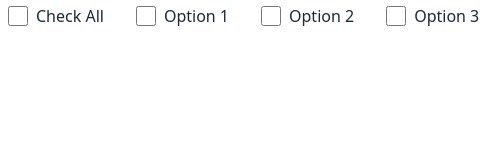
CheckboxGroup Component › Check All functionality works correctly
expect the checkbox labelled "Option 1" is not checked: met, box [136,6,156,26]
# Click Check All
Click the checkbox labelled "Check All".
click(18, 16)  # box [8,6,28,26]
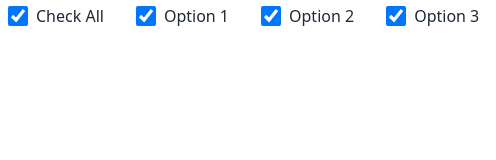
expect the checkbox labelled "Check All" is checked: met
expect the checkbox labelled "Option 1" is checked: met, box [136,6,156,26]
expect the checkbox labelled "Option 2" is checked: met, box [261,6,281,26]
# Click again to uncheck all
Click the checkbox labelled "Check All".
click(18, 16)  # box [8,6,28,26]
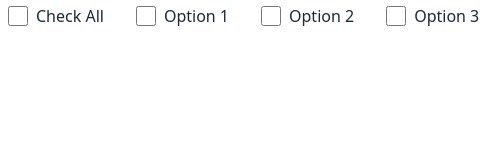
expect the checkbox labelled "Check All" is not checked: met, box [8,6,28,26]
expect the checkbox labelled "Option 1" is not checked: met, box [136,6,156,26]
expect the checkbox labelled "Option 2" is not checked: met, box [261,6,281,26]
